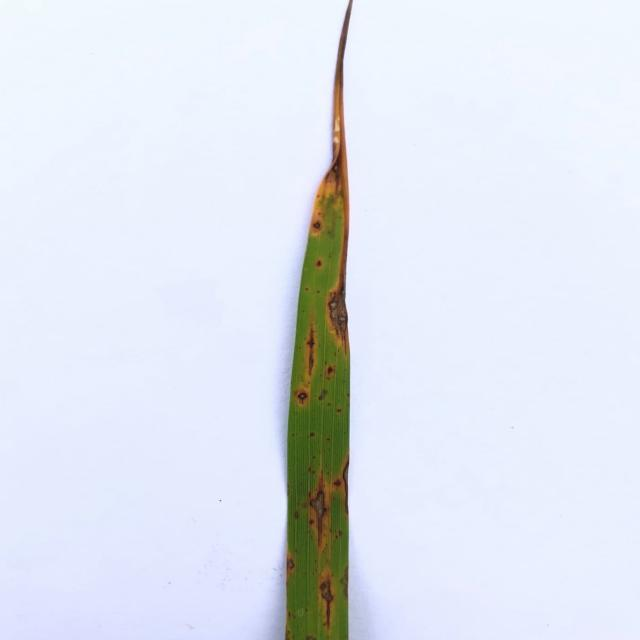leaf blast: (327, 237, 350, 352), (312, 473, 331, 552), (320, 574, 335, 630), (305, 318, 318, 378), (341, 455, 349, 520), (295, 387, 311, 408), (340, 563, 348, 602), (311, 217, 323, 234), (286, 554, 296, 574), (324, 363, 336, 379), (285, 627, 294, 640), (304, 633, 320, 640)
